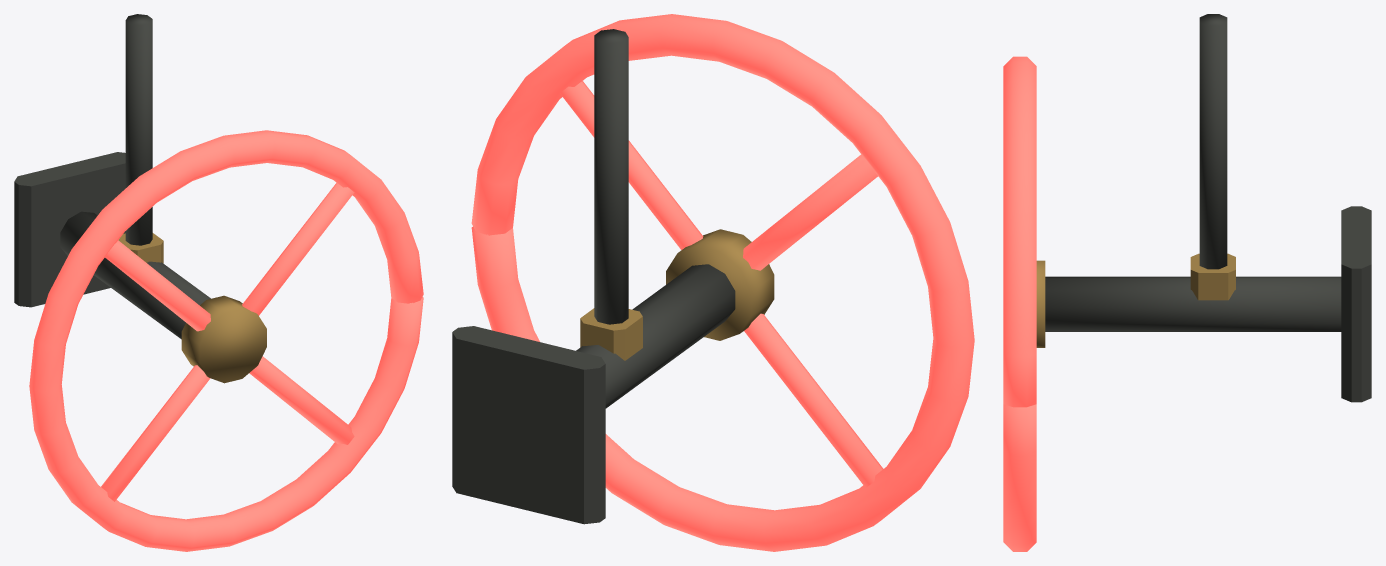
The model's file is b2_valve_big.glb.
The picture shows the model from 3 angles, left to right: view 1: azimuth 30°, elevation 25°; view 2: azimuth 150°, elevation 25°; view 3: azimuth 270°, elevation 25°; orthographic projection. The views are drawn at different scales.
Parts seen in each view (by area): view 1: b2_valve_big; view 2: b2_valve_big; view 3: b2_valve_big.
Boxes of the visible parts, bbox=[...] form: b2_valve_big: bbox=[14, 14, 423, 551]; b2_valve_big: bbox=[452, 14, 974, 551]; b2_valve_big: bbox=[1003, 14, 1371, 551].
Bounding box in the file's own units: 1.97 × 2.24 × 1.47.
